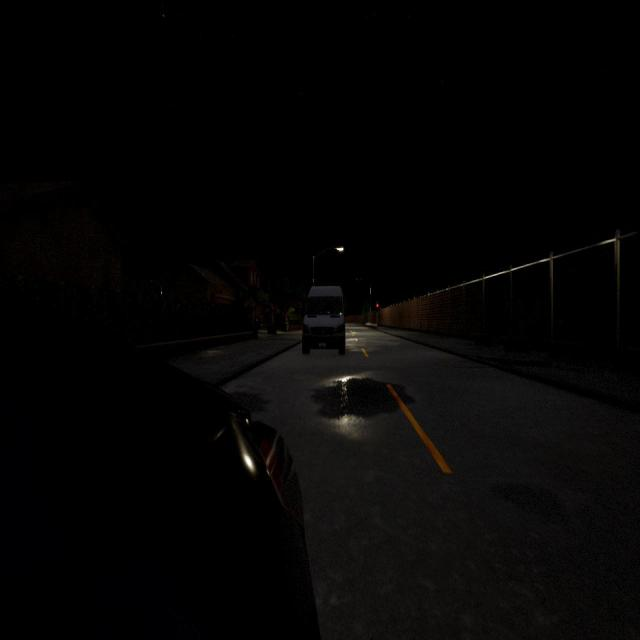Vehicle: (0, 335, 319, 637), (301, 286, 349, 356)
traffic_light: (376, 304, 379, 312)
